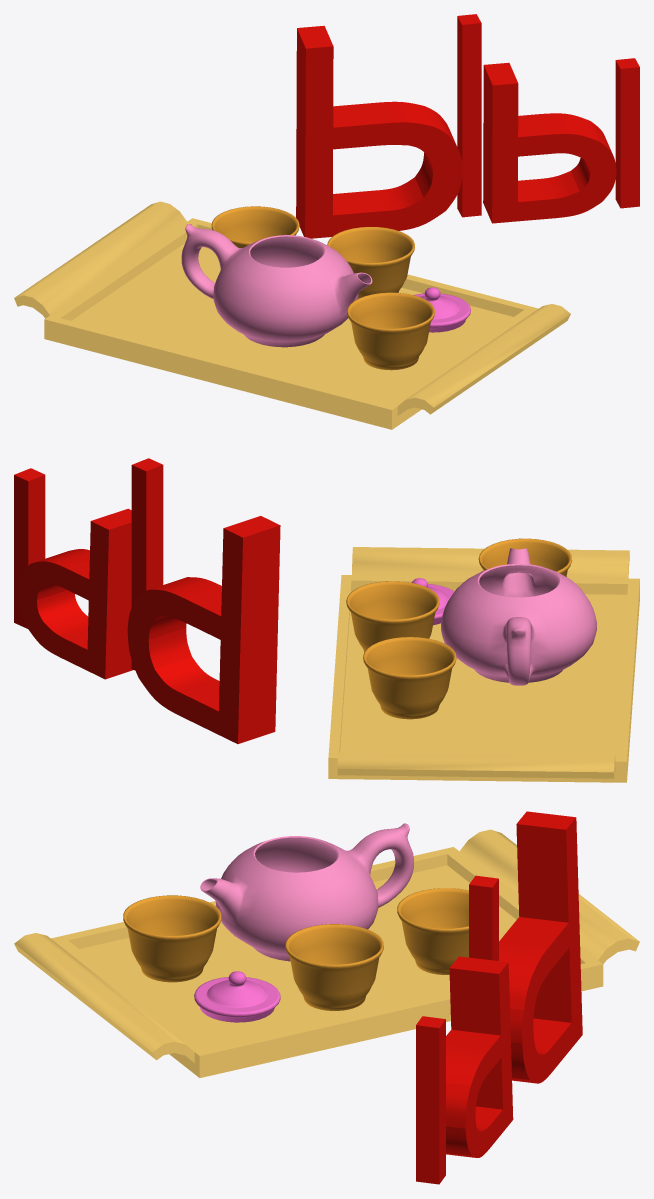
3 renders of one model, top to bottom at view 1: azimuth 30°, elevation 25°; view 2: azimuth 150°, elevation 25°; view 3: azimuth 270°, elevation 25°, orthographic. The views are drawn at different scales.
Visible parts, largest first — view 1: Cube, Mesh_0.033, Circle, Circle.002, Куб, Circle.003, Куб.001, Circle.004, Circle.001; view 2: Cube, Mesh_0.033, Circle, Circle.004, Circle.003, Куб, Куб.001, Circle.002, Circle.001; view 3: Cube, Mesh_0.033, Circle, Circle.002, Circle.003, Circle.004, Куб.001, Circle.001, Куб.
Part boxes in pixels (x1,y1,x2,y2): Cube: [14, 201, 570, 429]; Mesh_0.033: [296, 25, 616, 238]; Circle: [181, 224, 372, 347]; Circle.002: [347, 292, 434, 370]; Куб: [457, 14, 481, 217]; Circle.003: [327, 226, 414, 298]; Куб.001: [615, 58, 639, 208]; Circle.004: [211, 206, 299, 247]; Circle.001: [413, 287, 470, 332]; Cube: [328, 547, 639, 782]; Mesh_0.033: [18, 508, 280, 743]; Circle: [441, 548, 596, 685]; Circle.004: [363, 637, 456, 719]; Circle.003: [346, 581, 439, 651]; Куб: [131, 458, 163, 670]; Куб.001: [14, 468, 45, 628]; Circle.002: [478, 538, 572, 576]; Circle.001: [412, 578, 454, 625]; Cube: [14, 829, 639, 1077]; Mesh_0.033: [446, 811, 582, 1157]; Circle: [200, 823, 413, 961]; Circle.002: [123, 895, 221, 982]; Circle.003: [285, 924, 383, 1010]; Circle.004: [397, 888, 468, 974]; Куб.001: [416, 1016, 445, 1184]; Circle.001: [194, 971, 280, 1022]; Куб: [469, 875, 498, 960].
Bounding box in the file's own units: 55.45 × 18.1 × 45.19.
